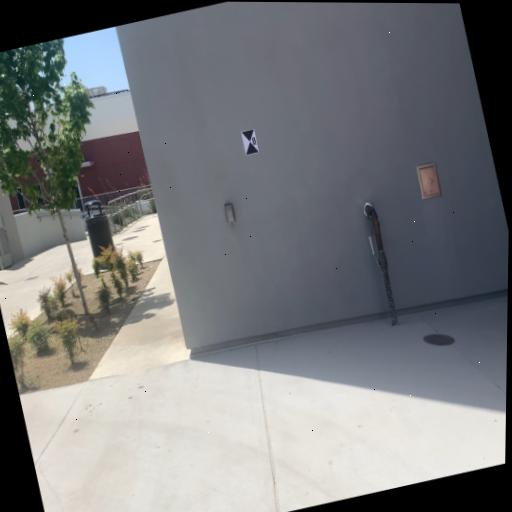target8: (241, 128, 260, 156)
